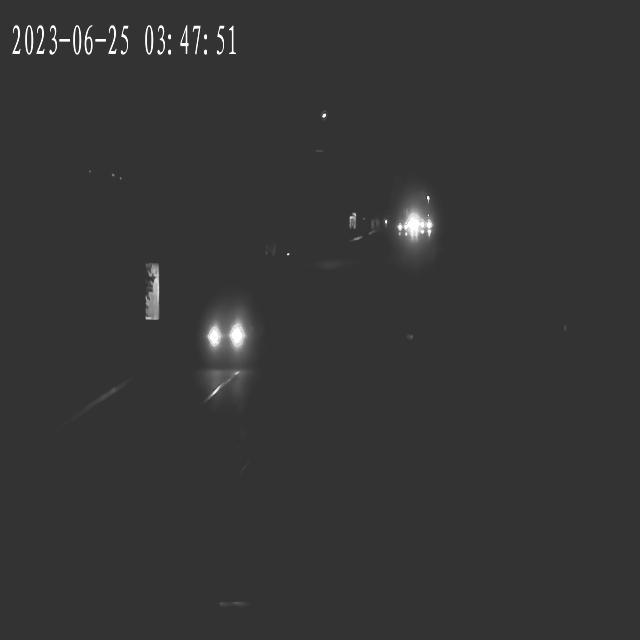Car: (202, 309, 253, 362), (414, 214, 436, 240), (396, 216, 413, 242)
